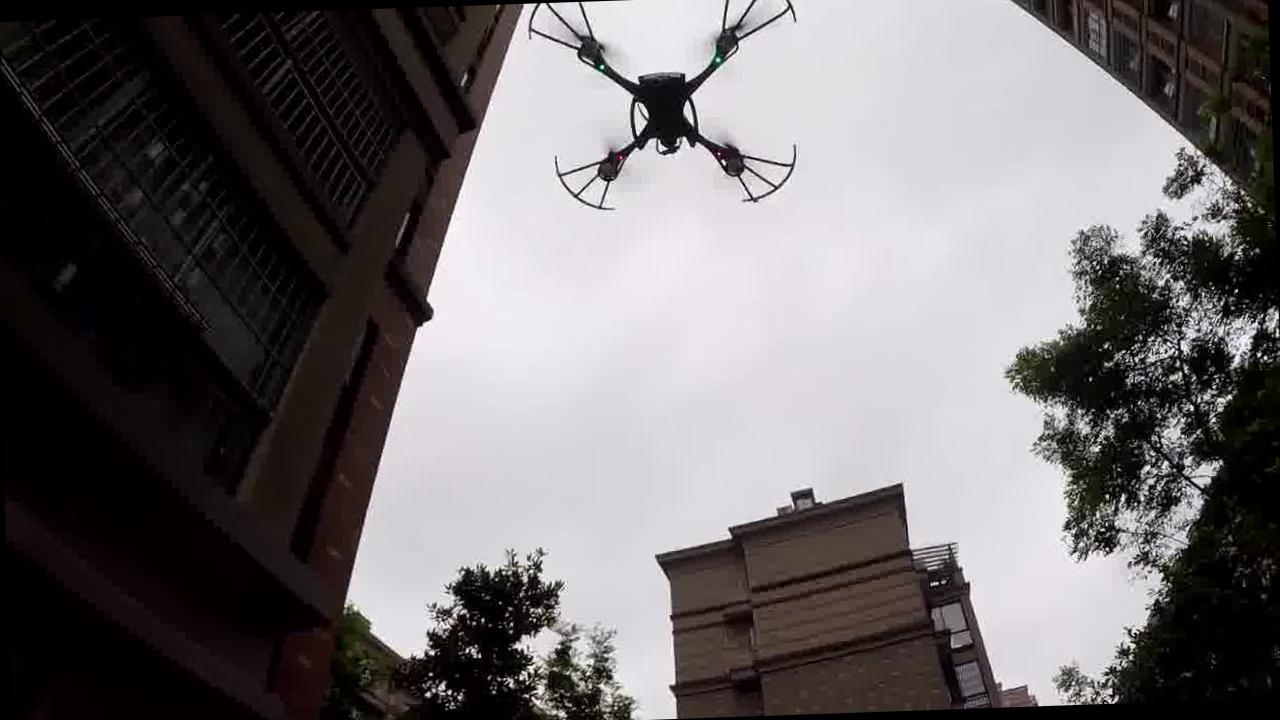drone: (519, 0, 812, 242)
